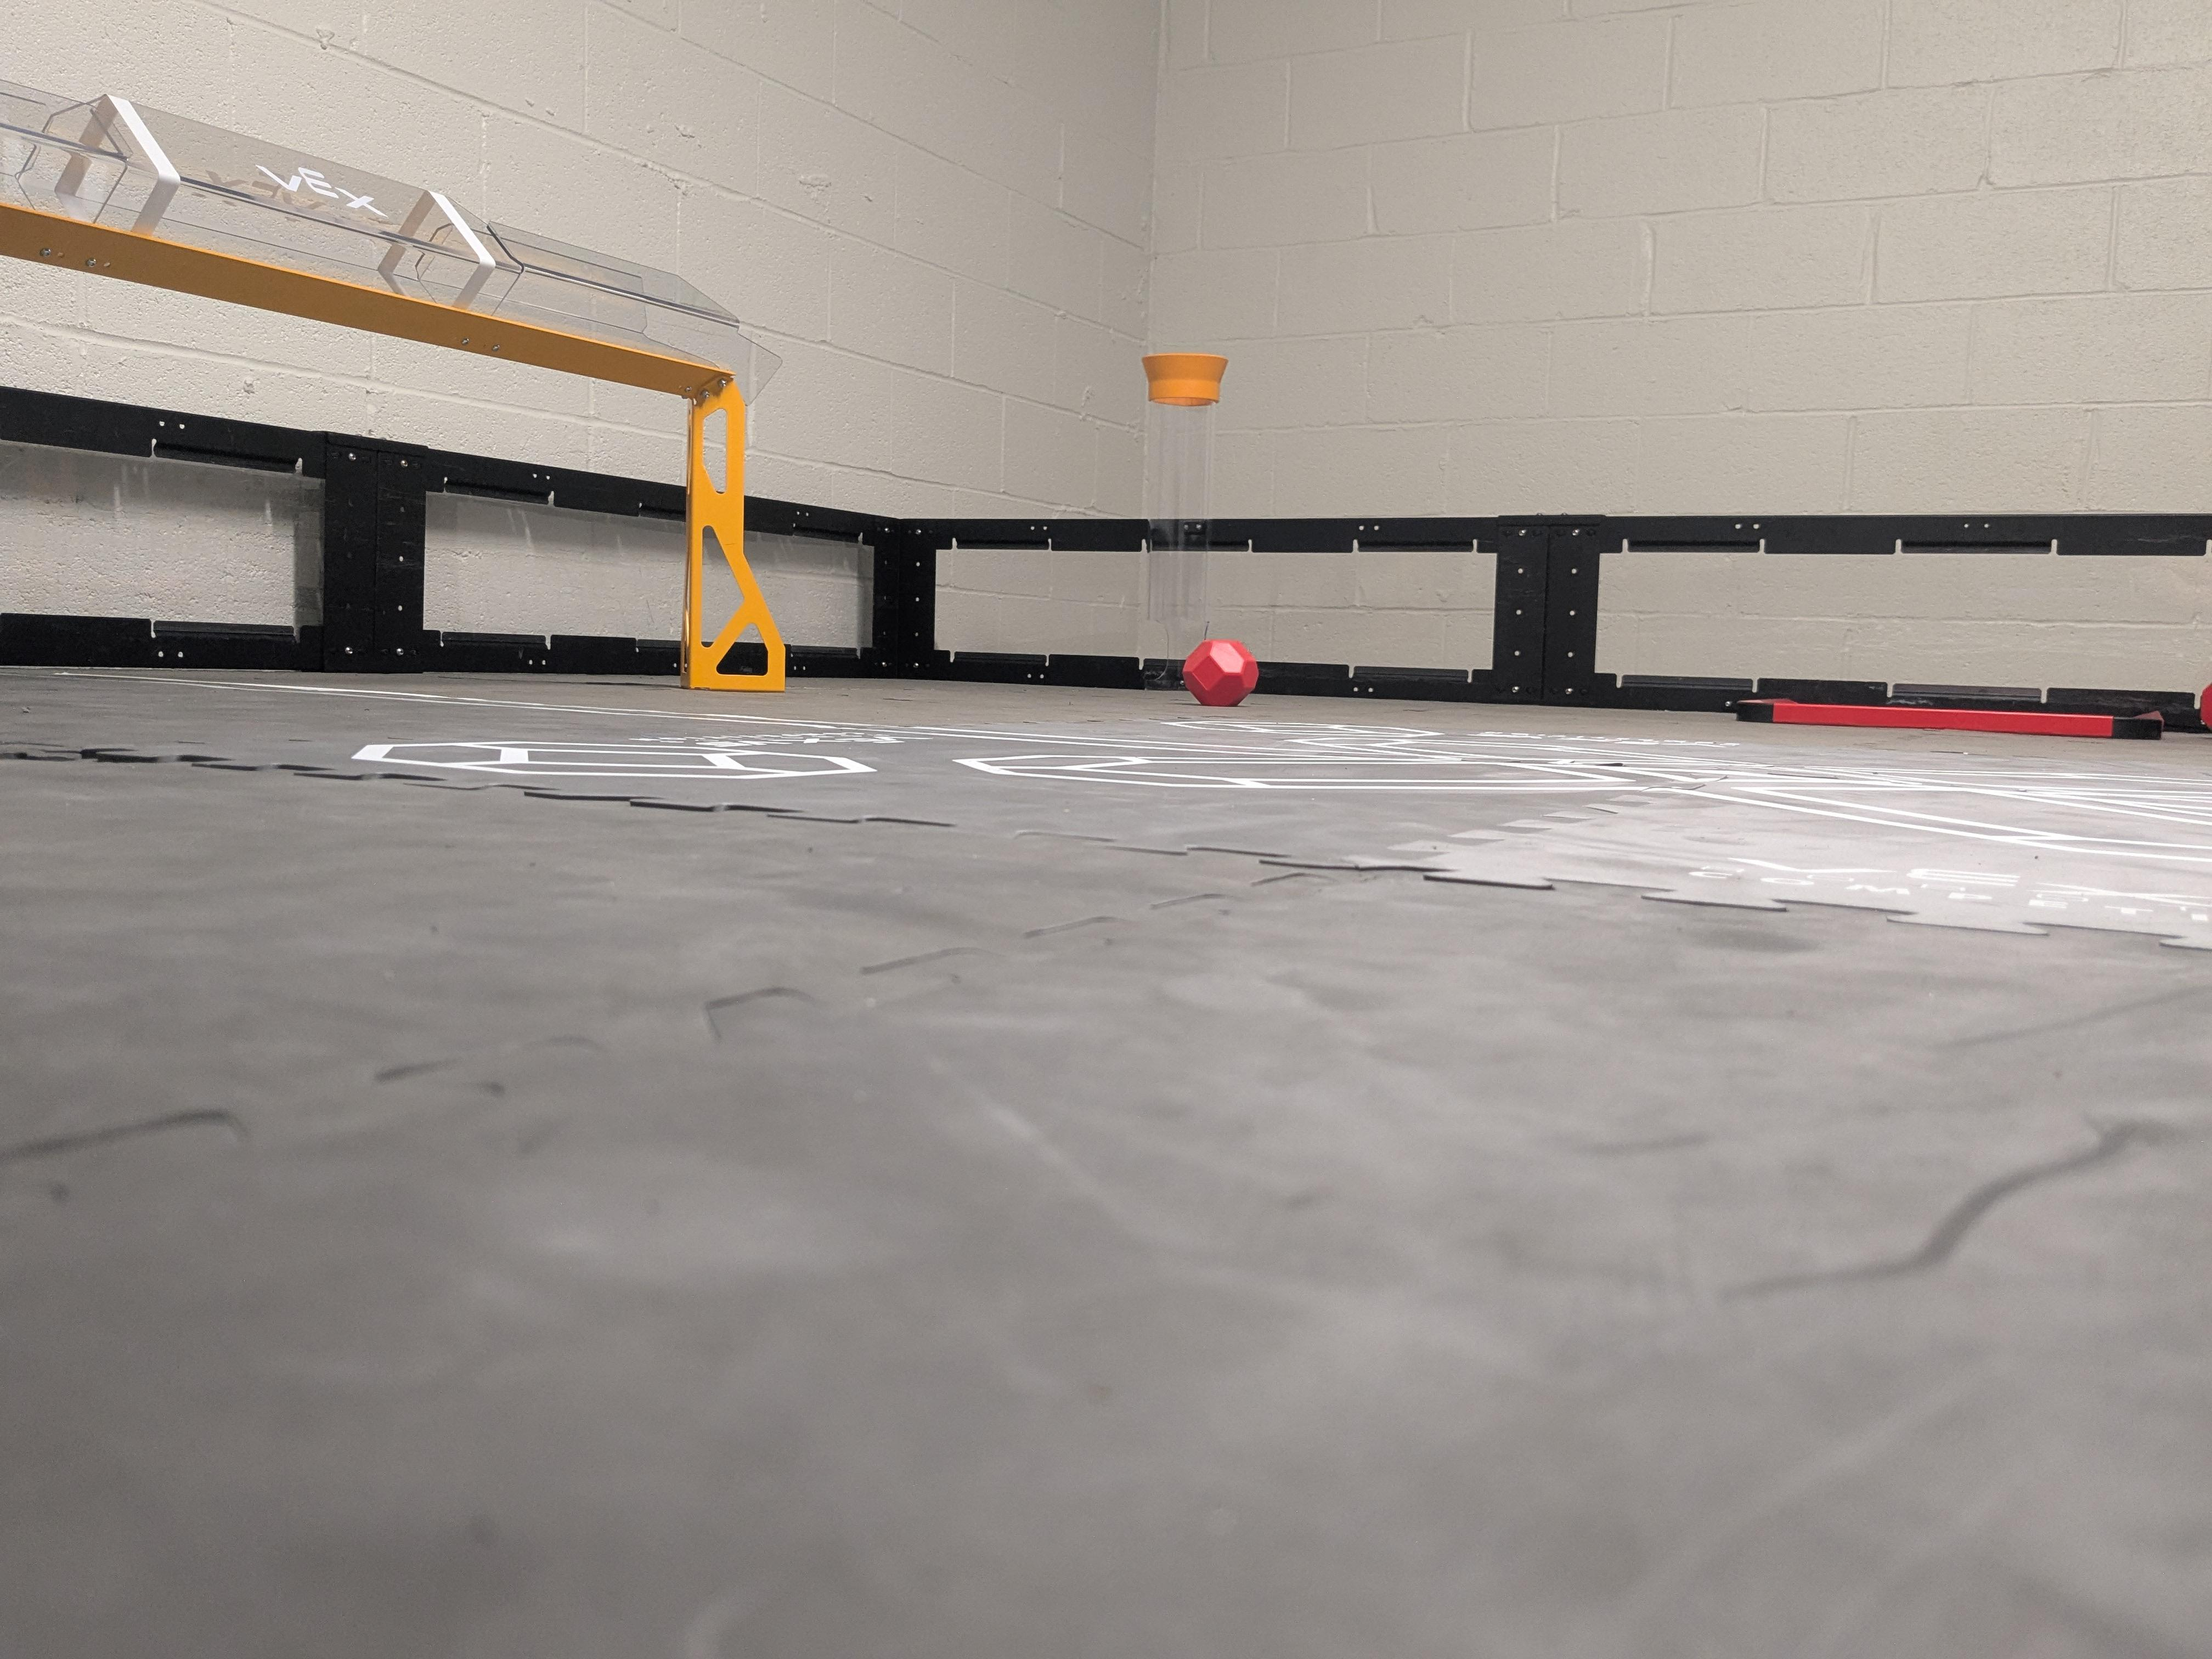Vex-Pieces-RED: (1183, 640, 1258, 706)
